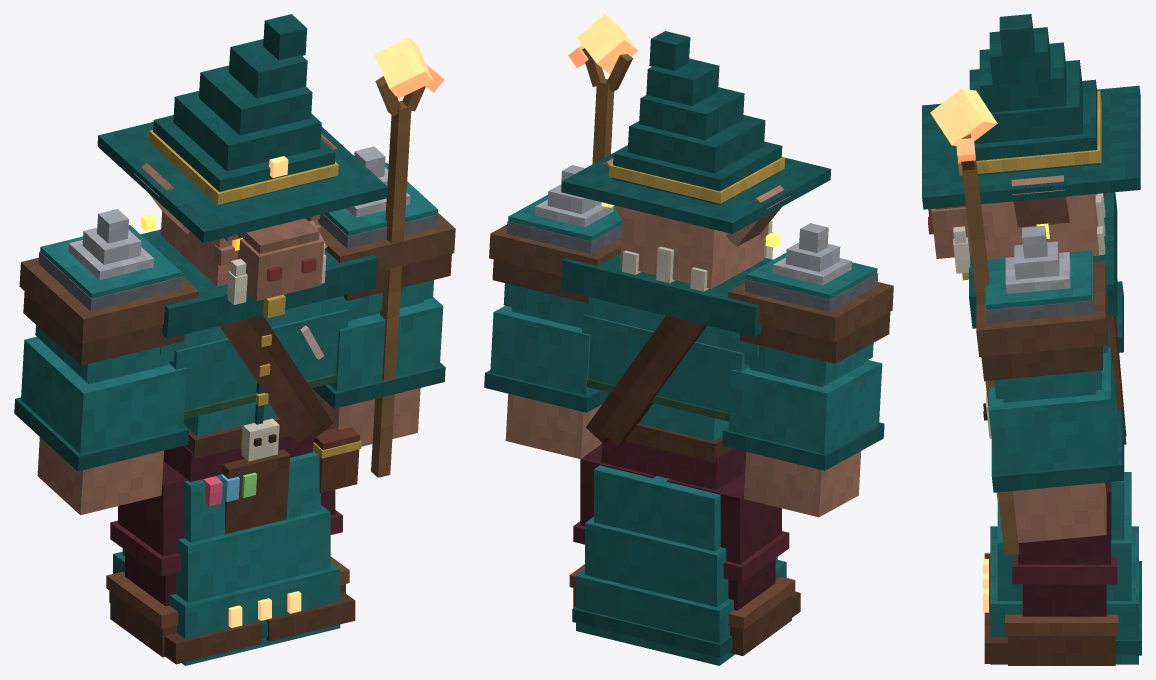
File: orc_mage_v2.glb
The picture shows the model from 3 angles, left to right: view 1: azimuth 30°, elevation 25°; view 2: azimuth 150°, elevation 25°; view 3: azimuth 270°, elevation 25°; orthographic projection. The views are drawn at different scales.
Parts seen in each view (by area): view 1: Head, ArmR, Torso, ArmL, Root, LegR, HandL, LegL; view 2: ArmR, Head, Torso, Root, ArmL, LegR, HandL, LegL; view 3: ArmL, Head, LegL, Root, HandL, Torso, ArmR.
Boxes of the visible parts, box(x1,y1,x2,y2) form: Head: box(97, 14, 388, 304); ArmR: box(14, 209, 199, 515); Torso: box(141, 229, 377, 534); ArmL: box(311, 146, 455, 446); Root: box(109, 450, 340, 665); LegR: box(106, 461, 261, 664); HandL: box(371, 37, 444, 477); LegL: box(266, 489, 355, 641); ArmR: box(722, 223, 893, 517); Head: box(561, 31, 831, 288); Torso: box(560, 246, 772, 489); Root: box(572, 465, 786, 665); ArmL: box(484, 165, 622, 458); LegR: box(667, 472, 800, 655); HandL: box(568, 14, 638, 164); LegL: box(569, 444, 656, 607); ArmL: box(976, 225, 1123, 542); Head: box(922, 14, 1140, 273); LegL: box(984, 482, 1118, 665); Root: box(983, 445, 1141, 664); HandL: box(930, 88, 1019, 555); Torso: box(962, 192, 1126, 501); ArmR: box(1103, 193, 1123, 352).
Bounding box in the file's own units: 1.44 × 2.24 × 0.7169.
45 materials, 45 textured.
